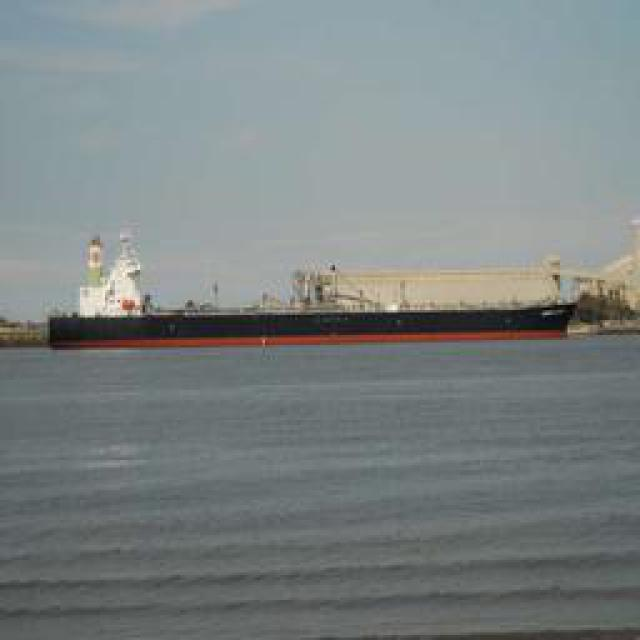Ship: (61, 266, 569, 349)
